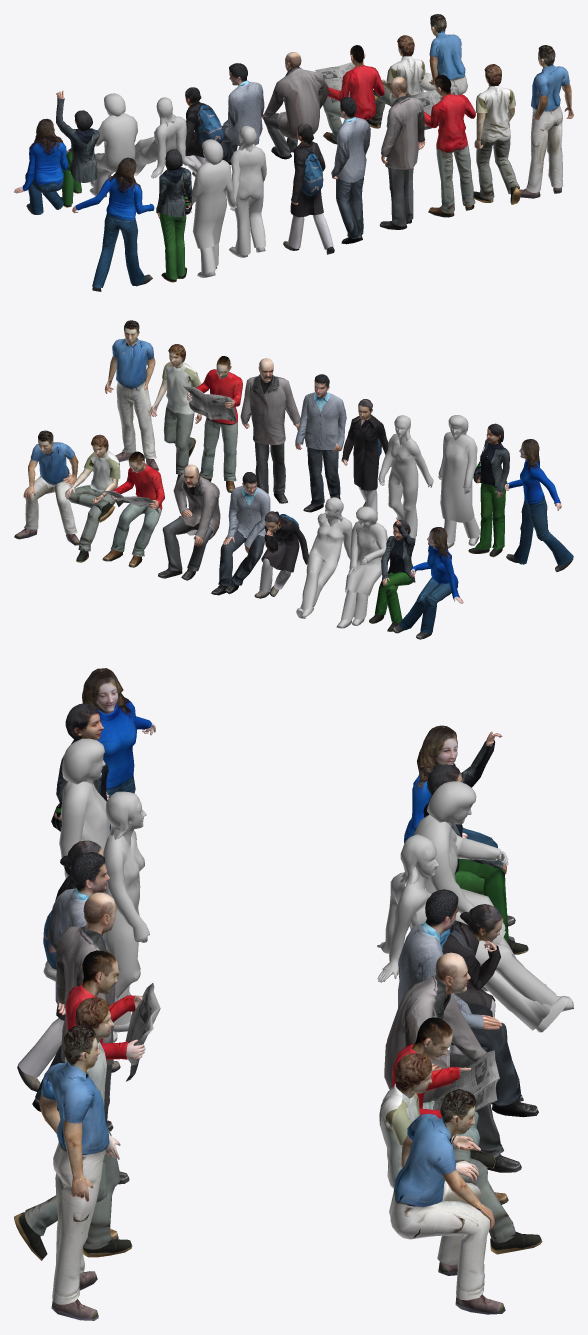
Rendered from Crowd.FBX.
3 renders of one model, top to bottom at view 1: azimuth 30°, elevation 25°; view 2: azimuth 150°, elevation 25°; view 3: azimuth 270°, elevation 25°, orthographic. The views are drawn at different scales.
Visible parts, largest first — view 1: CMan0003-Re, CMan0001-St, CMan0004-St, CWom0005-Wa, CMan0002-Wa, CMan0004-Se, CWom0003-Wa, CMan0005-Wa, CWom0002-Wa, CWom0001-Wa, CWom0004-St, CMan0003-Se (+8 smaller); view 2: CMan0004-St, CMan0001-St, CMan0005-Wa, CMan0003-Re, CMan0004-Se, CMan0005-Se, CWom0003-Wa, CMan0001-Se, CMan0003-Se, CWom0005-Wa, CWom0003-Se, CWom0004-St (+8 smaller); view 3: CMan0001-Se, CMan0001-St, CWom0002-Se, CMan0004-Se, CMan0002-Se, CMan0005-Se, CWom0002-Wa, CMan0002-Wa, CWom0003-Se, CWom0003-Wa, CMan0003-Re, CMan0003-Se (+8 smaller).
Boxes of the visible parts, x1=… form: CMan0003-Re: x1=409, y1=75, x2=475, y2=217; CMan0001-St: x1=519, y1=45, x2=573, y2=198; CMan0004-St: x1=380, y1=76, x2=425, y2=229; CWom0005-Wa: x1=72, y1=157, x2=154, y2=291; CMan0002-Wa: x1=473, y1=64, x2=520, y2=204; CMan0004-Se: x1=262, y1=52, x2=329, y2=159; CWom0003-Wa: x1=190, y1=139, x2=235, y2=277; CMan0005-Wa: x1=331, y1=97, x2=370, y2=244; CWom0002-Wa: x1=229, y1=125, x2=266, y2=257; CWom0001-Wa: x1=283, y1=123, x2=334, y2=254; CWom0004-St: x1=156, y1=149, x2=192, y2=282; CMan0003-Se: x1=315, y1=45, x2=384, y2=144; CMan0004-St: x1=240, y1=358, x2=300, y2=503; CMan0001-St: x1=104, y1=320, x2=158, y2=470; CMan0005-Wa: x1=295, y1=374, x2=346, y2=512; CMan0003-Re: x1=183, y1=356, x2=242, y2=492; CMan0004-Se: x1=158, y1=464, x2=220, y2=580; CMan0005-Se: x1=211, y1=472, x2=270, y2=595; CWom0003-Wa: x1=438, y1=415, x2=480, y2=548; CMan0001-Se: x1=14, y1=430, x2=79, y2=545; CMan0003-Se: x1=102, y1=451, x2=164, y2=567; CWom0005-Wa: x1=504, y1=439, x2=573, y2=571; CWom0003-Se: x1=336, y1=506, x2=387, y2=628; CWom0004-St: x1=468, y1=423, x2=509, y2=557; CMan0001-Se: x1=389, y1=1089, x2=505, y2=1314; CMan0001-St: x1=39, y1=1025, x2=109, y2=1320; CWom0002-Se: x1=377, y1=834, x2=573, y2=1032; CMan0004-Se: x1=384, y1=952, x2=521, y2=1172; CMan0002-Se: x1=379, y1=1053, x2=542, y2=1254; CMan0005-Se: x1=398, y1=889, x2=538, y2=1117; CWom0002-Wa: x1=101, y1=791, x2=149, y2=1042; CMan0002-Wa: x1=14, y1=997, x2=132, y2=1260; CWom0003-Se: x1=413, y1=781, x2=546, y2=991; CWom0003-Wa: x1=43, y1=738, x2=130, y2=995; CMan0003-Re: x1=66, y1=950, x2=160, y2=1239; CMan0003-Se: x1=392, y1=1017, x2=508, y2=1204.
Bounding box in the file's own units: 255 × 73.74 × 133.
